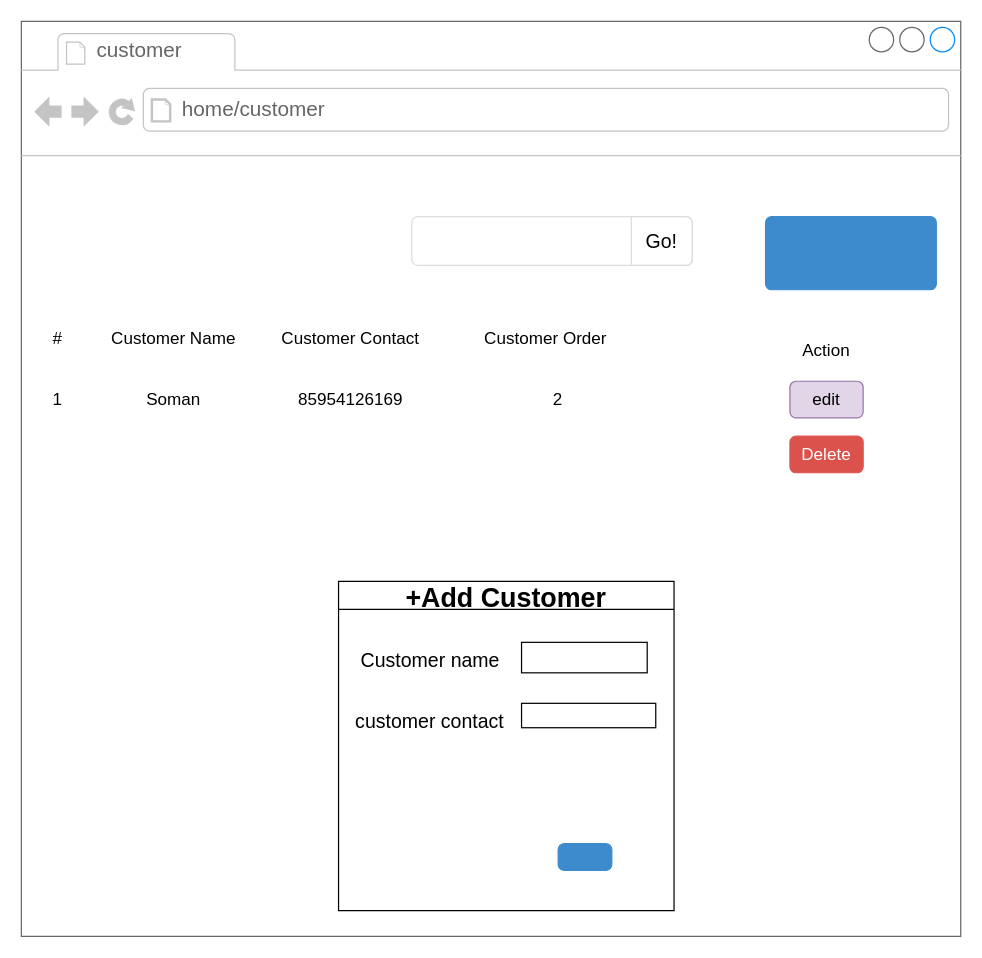
Some shapes in this 982 by 958 pixel diagram are drawn without their labels. Each missing label, with the box of its shape:
Add: (557, 842, 612, 870)
Add Customer: (764, 215, 936, 290)
Search.by phone no: (411, 215, 692, 265)
